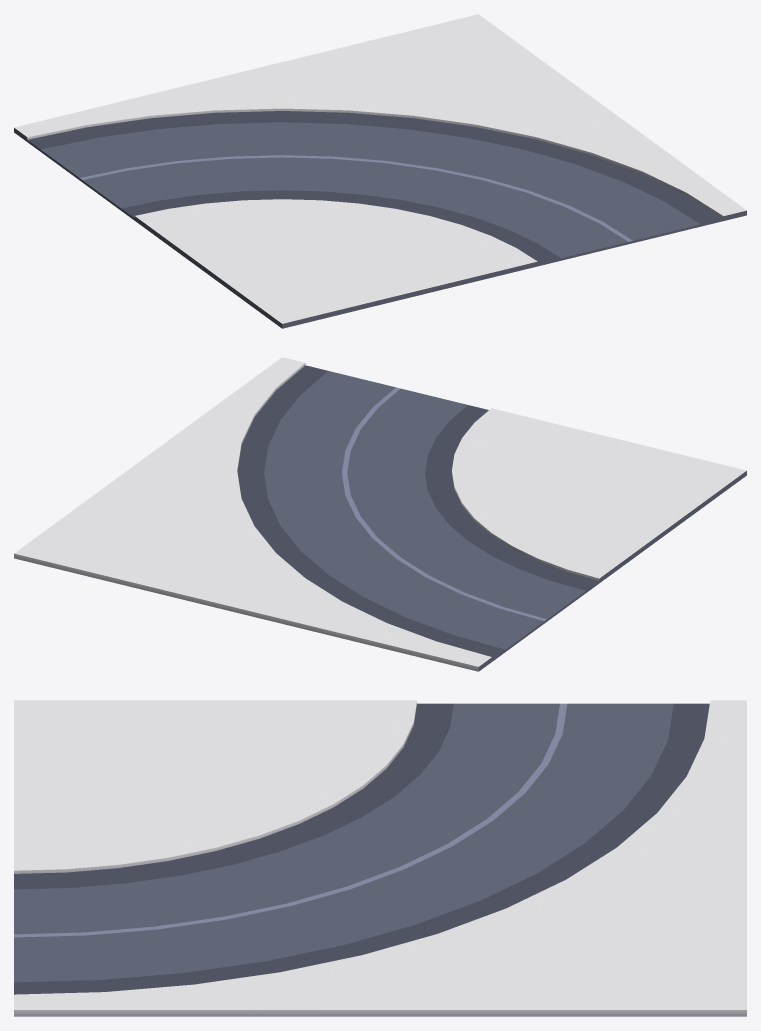
File: road-curve-pavement.glb
The picture shows the model from 3 angles, top to bottom: view 1: azimuth 30°, elevation 25°; view 2: azimuth 150°, elevation 25°; view 3: azimuth 270°, elevation 25°; orthographic projection. The views are drawn at different scales.
Parts seen in each view (by area): view 1: road-curve-pavement; view 2: road-curve-pavement; view 3: road-curve-pavement.
Part boxes in pixels (x1,y1,x2,y2): road-curve-pavement: (14,14,746,328); road-curve-pavement: (14,357,746,671); road-curve-pavement: (14,700,746,1016).
Size of the model in its own units: 2 by 0.02 by 2.
Materials: 1 (1 with a texture image).
